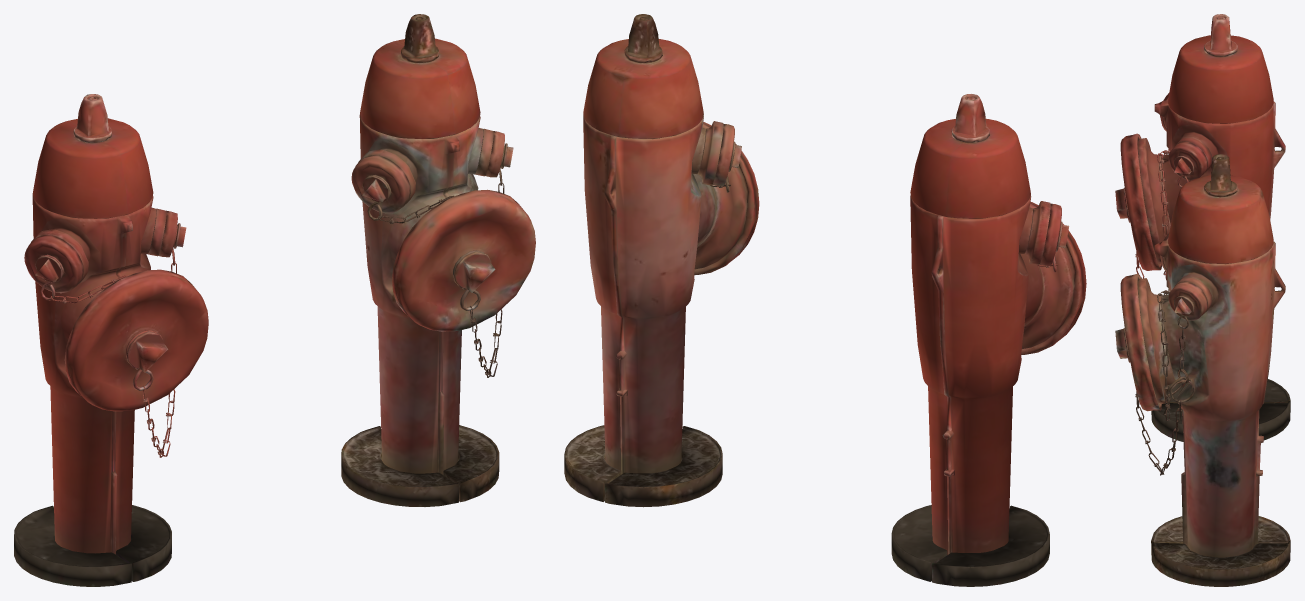
The model's file is fire_hydrant.glb.
3 renders of one model, left to right at view 1: azimuth 30°, elevation 25°; view 2: azimuth 150°, elevation 25°; view 3: azimuth 270°, elevation 25°, orthographic. The views are drawn at different scales.
Parts seen in each view (by area): view 1: fire_hydrant_aged, fire_hydrant, fire_hydrant_cap_01, fire_hydrant_cap_01_aged, fire_hydrant_cap_03, fire_hydrant_cap_03_aged, fire_hydrant_chain_aged, fire_hydrant_chain, fire_hydrant_cap_02_aged, fire_hydrant_cap_02; view 2: fire_hydrant_aged, fire_hydrant, fire_hydrant_cap_01, fire_hydrant_cap_01_aged, fire_hydrant_cap_03, fire_hydrant_cap_03_aged; view 3: fire_hydrant_aged, fire_hydrant, fire_hydrant_cap_01_aged, fire_hydrant_cap_01, fire_hydrant_chain_aged, fire_hydrant_cap_02_aged, fire_hydrant_cap_02, fire_hydrant_chain.
Boxes of the visible parts, x1,y1,x2,y2 form: fire_hydrant_aged: (341, 14, 499, 506); fire_hydrant: (14, 94, 171, 586); fire_hydrant_cap_01: (64, 269, 208, 411); fire_hydrant_cap_01_aged: (392, 189, 535, 331); fire_hydrant_cap_03: (24, 235, 83, 293); fire_hydrant_cap_03_aged: (351, 155, 410, 213); fire_hydrant_chain_aged: (367, 145, 504, 377); fire_hydrant_chain: (40, 224, 177, 457); fire_hydrant_cap_02_aged: (485, 131, 513, 177); fire_hydrant_cap_02: (158, 210, 186, 257); fire_hydrant_aged: (564, 14, 747, 507); fire_hydrant: (891, 94, 1074, 586); fire_hydrant_cap_01: (1021, 202, 1086, 354); fire_hydrant_cap_01_aged: (694, 122, 759, 275); fire_hydrant_cap_03: (1039, 203, 1069, 266); fire_hydrant_cap_03_aged: (712, 124, 741, 186); fire_hydrant_aged: (1138, 154, 1290, 586); fire_hydrant: (1138, 14, 1290, 441); fire_hydrant_cap_01_aged: (1115, 273, 1161, 411); fire_hydrant_cap_01: (1115, 133, 1161, 270); fire_hydrant_chain_aged: (1135, 289, 1195, 475); fire_hydrant_cap_02_aged: (1168, 281, 1207, 320); fire_hydrant_cap_02: (1168, 141, 1207, 180); fire_hydrant_chain: (1135, 149, 1193, 280).
Size of the model in its own units: 0.8745 by 0.7994 by 0.3173.
Materials: 2 (2 with a texture image).
